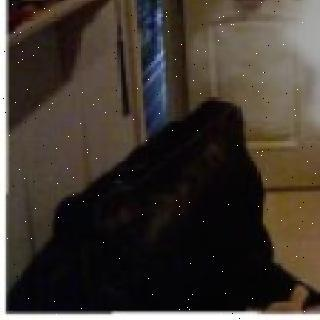smoke: (267, 0, 320, 216)
